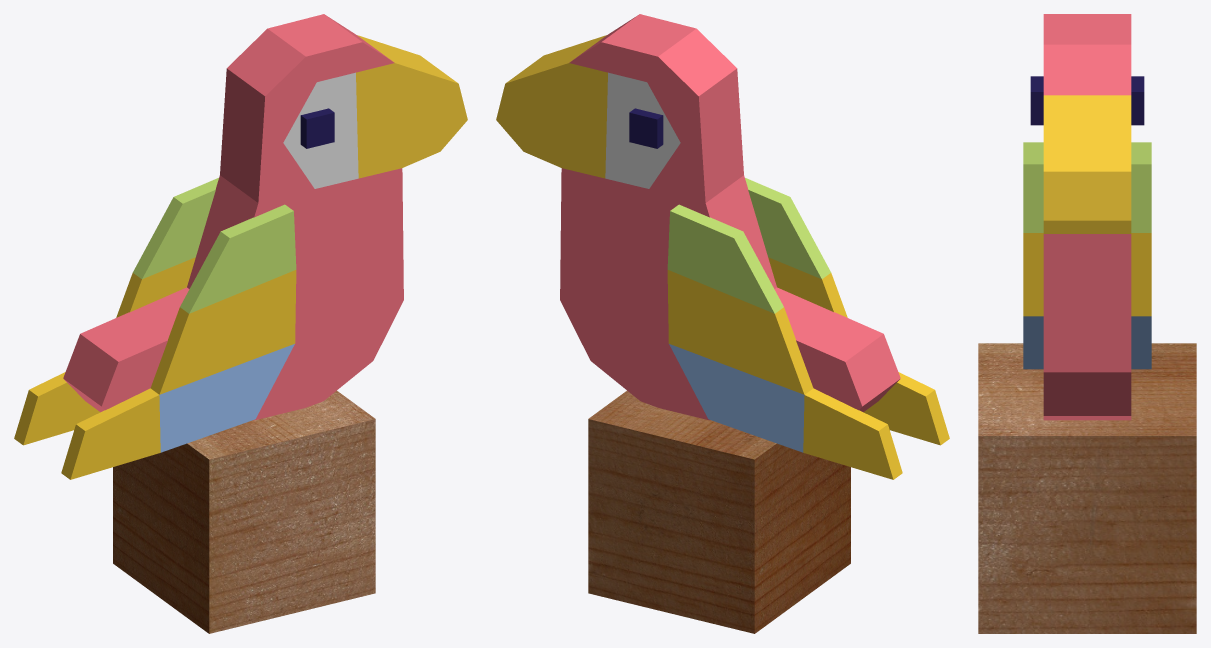
File: bird.gltf
3 renders of one model, left to right at view 1: azimuth 30°, elevation 25°; view 2: azimuth 150°, elevation 25°; view 3: azimuth 270°, elevation 25°, orthographic. The views are drawn at different scales.
Visible parts, largest first — view 1: BirdBody, WoodenBox, BirdWings, BirdEyes; view 2: BirdBody, WoodenBox, BirdWings, BirdEyes; view 3: WoodenBox, BirdBody, BirdWings, BirdEyes.
Boxes of the visible parts, bbox=[...] form: BirdBody: bbox=[63, 14, 467, 420]; WoodenBox: bbox=[113, 390, 375, 633]; BirdWings: bbox=[14, 178, 296, 479]; BirdEyes: bbox=[300, 108, 334, 148]; BirdBody: bbox=[496, 14, 900, 420]; WoodenBox: bbox=[588, 390, 850, 633]; BirdWings: bbox=[667, 178, 949, 479]; BirdEyes: bbox=[629, 108, 663, 148]; WoodenBox: bbox=[978, 343, 1196, 633]; BirdBody: bbox=[1043, 14, 1131, 420]; BirdWings: bbox=[1023, 142, 1151, 369]; BirdEyes: bbox=[1030, 76, 1144, 125].
Bounding box in the file's own units: 0.9759 × 1.21 × 0.4.
8 materials, 1 textured.
